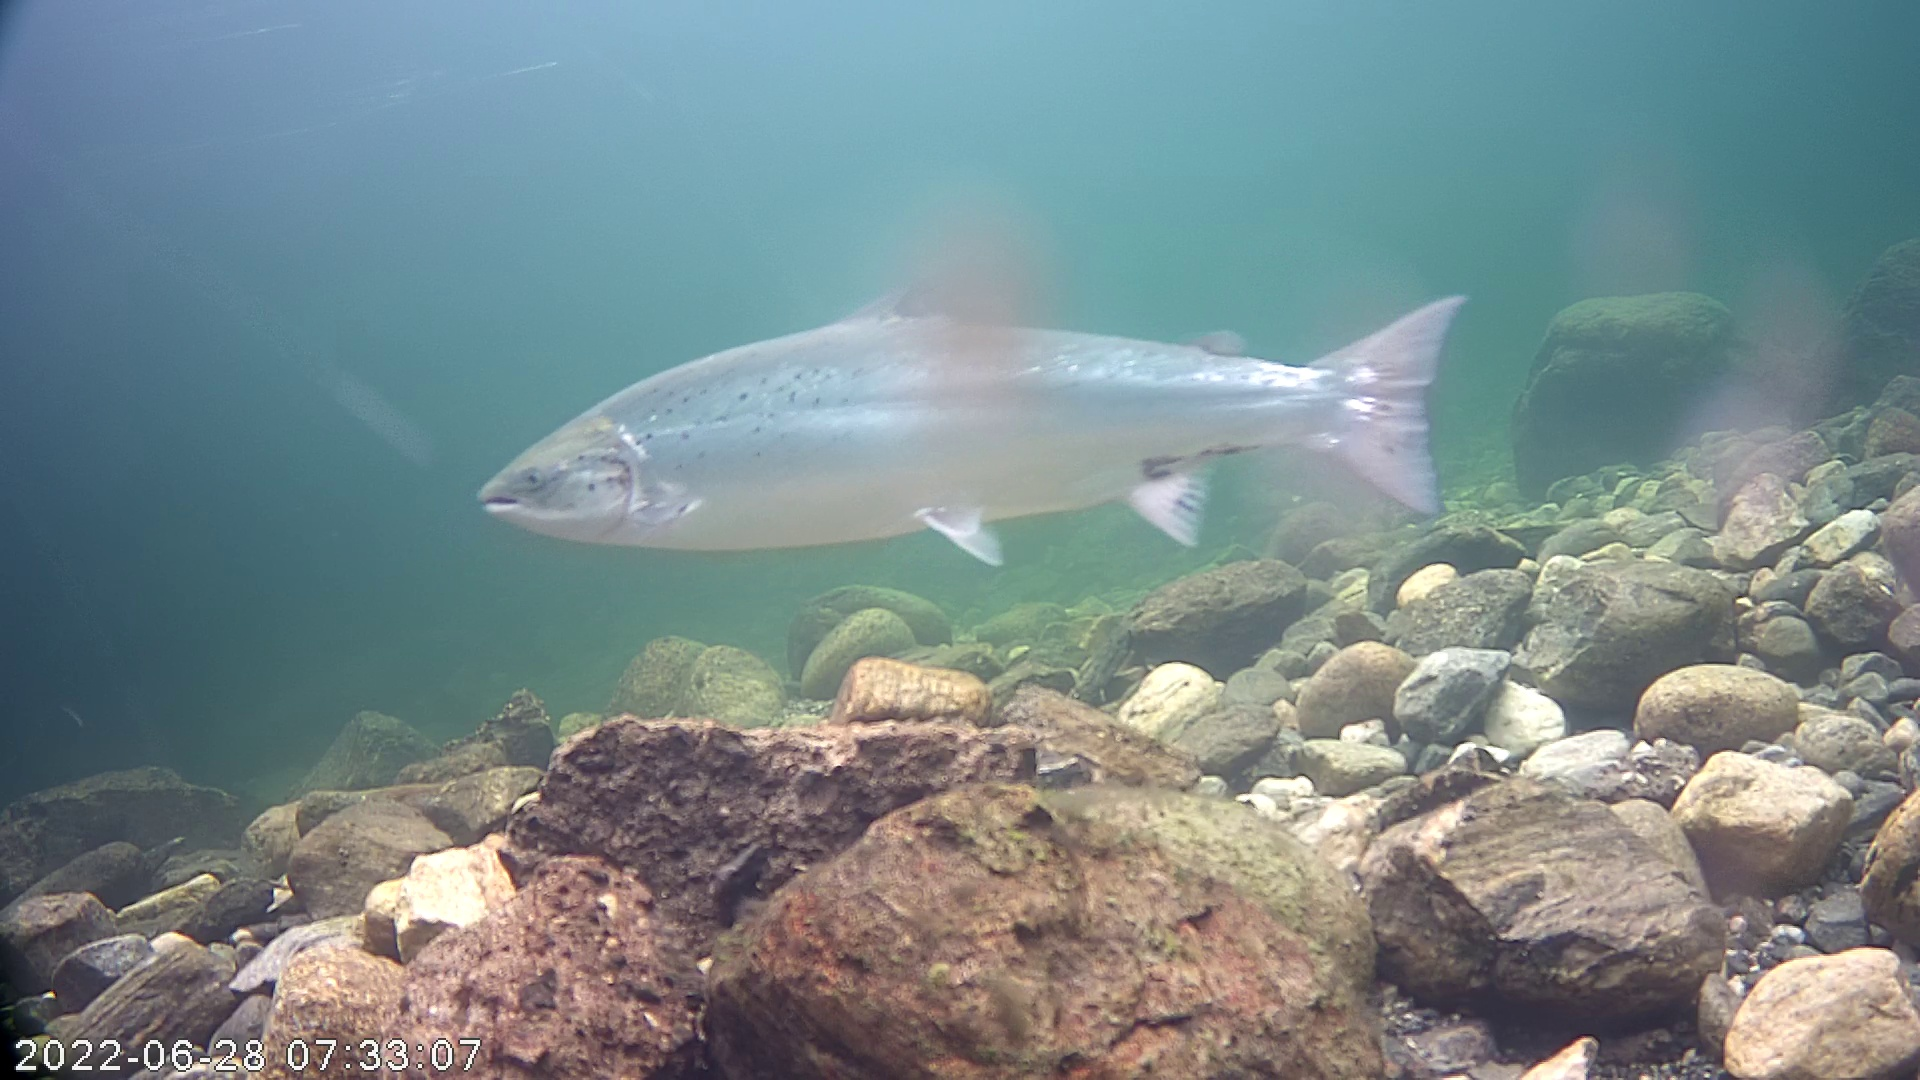salmon: (460, 149, 1493, 622)
